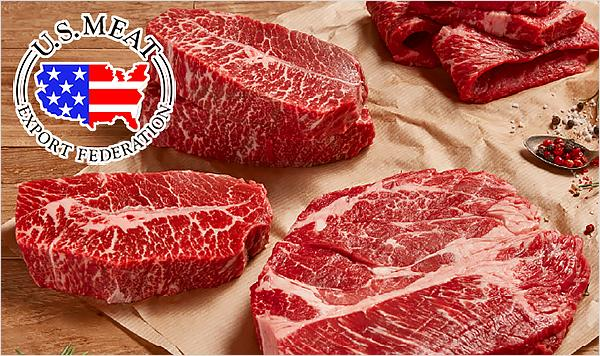beef: (236, 93, 548, 198), (12, 95, 255, 167), (164, 4, 344, 76)
